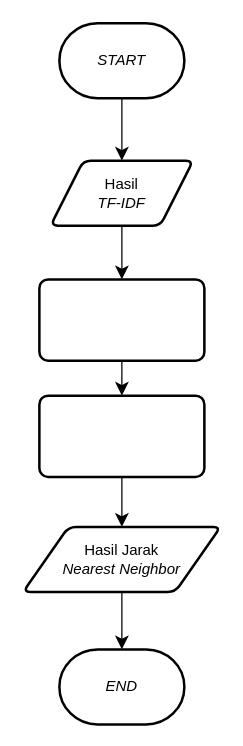
Image size: 243x746. Some labels were removed from this diagram. Each missing label, with the centre of its shape:
"Mencari Jarak Nearest Neighbor" belongs at (x=121, y=319).
"Menentukan Nilai k" belongs at (x=121, y=436).
